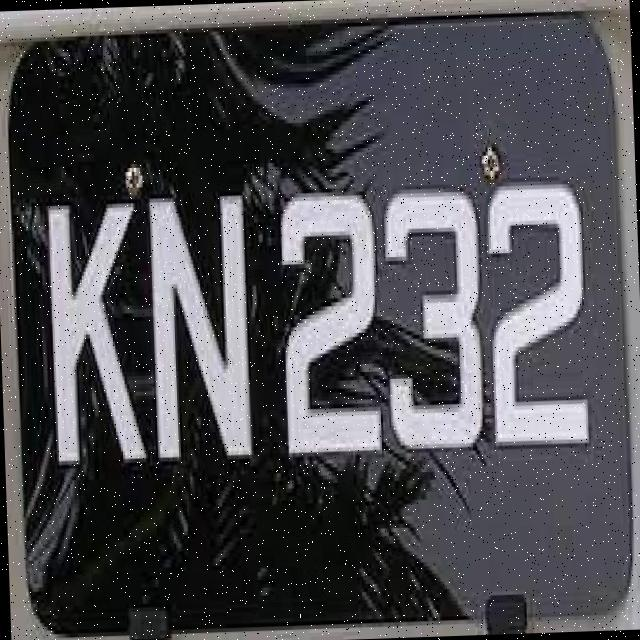License_Plate: (1, 1, 640, 640)
